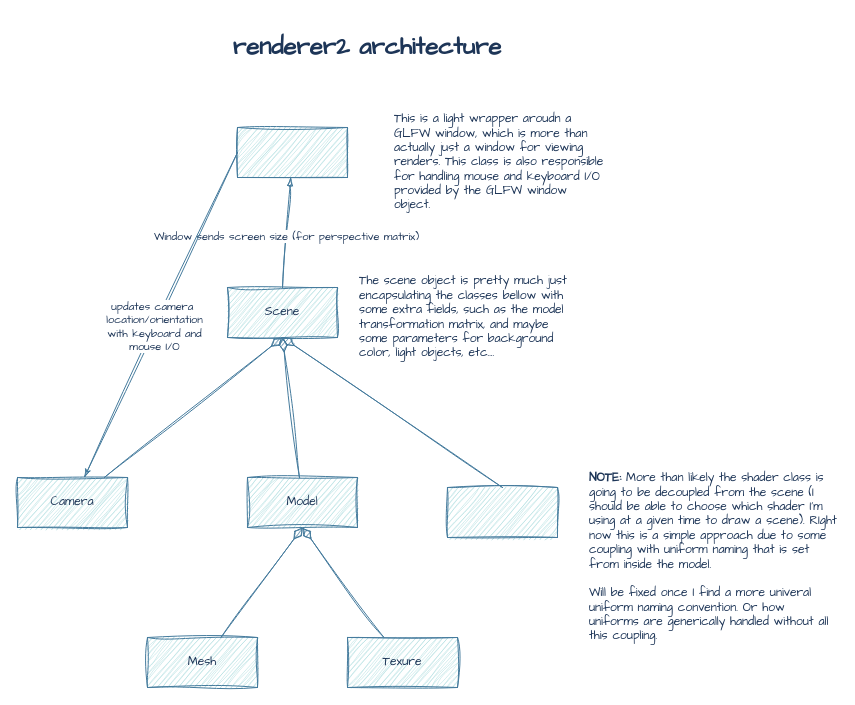
This 855x705 diagram has some shape labels left out. Here are the shapes that lost their labels. From the top down, the centre of each, then its label:
At (x=292, y=152): "Window".
At (x=502, y=512): "Shader".
